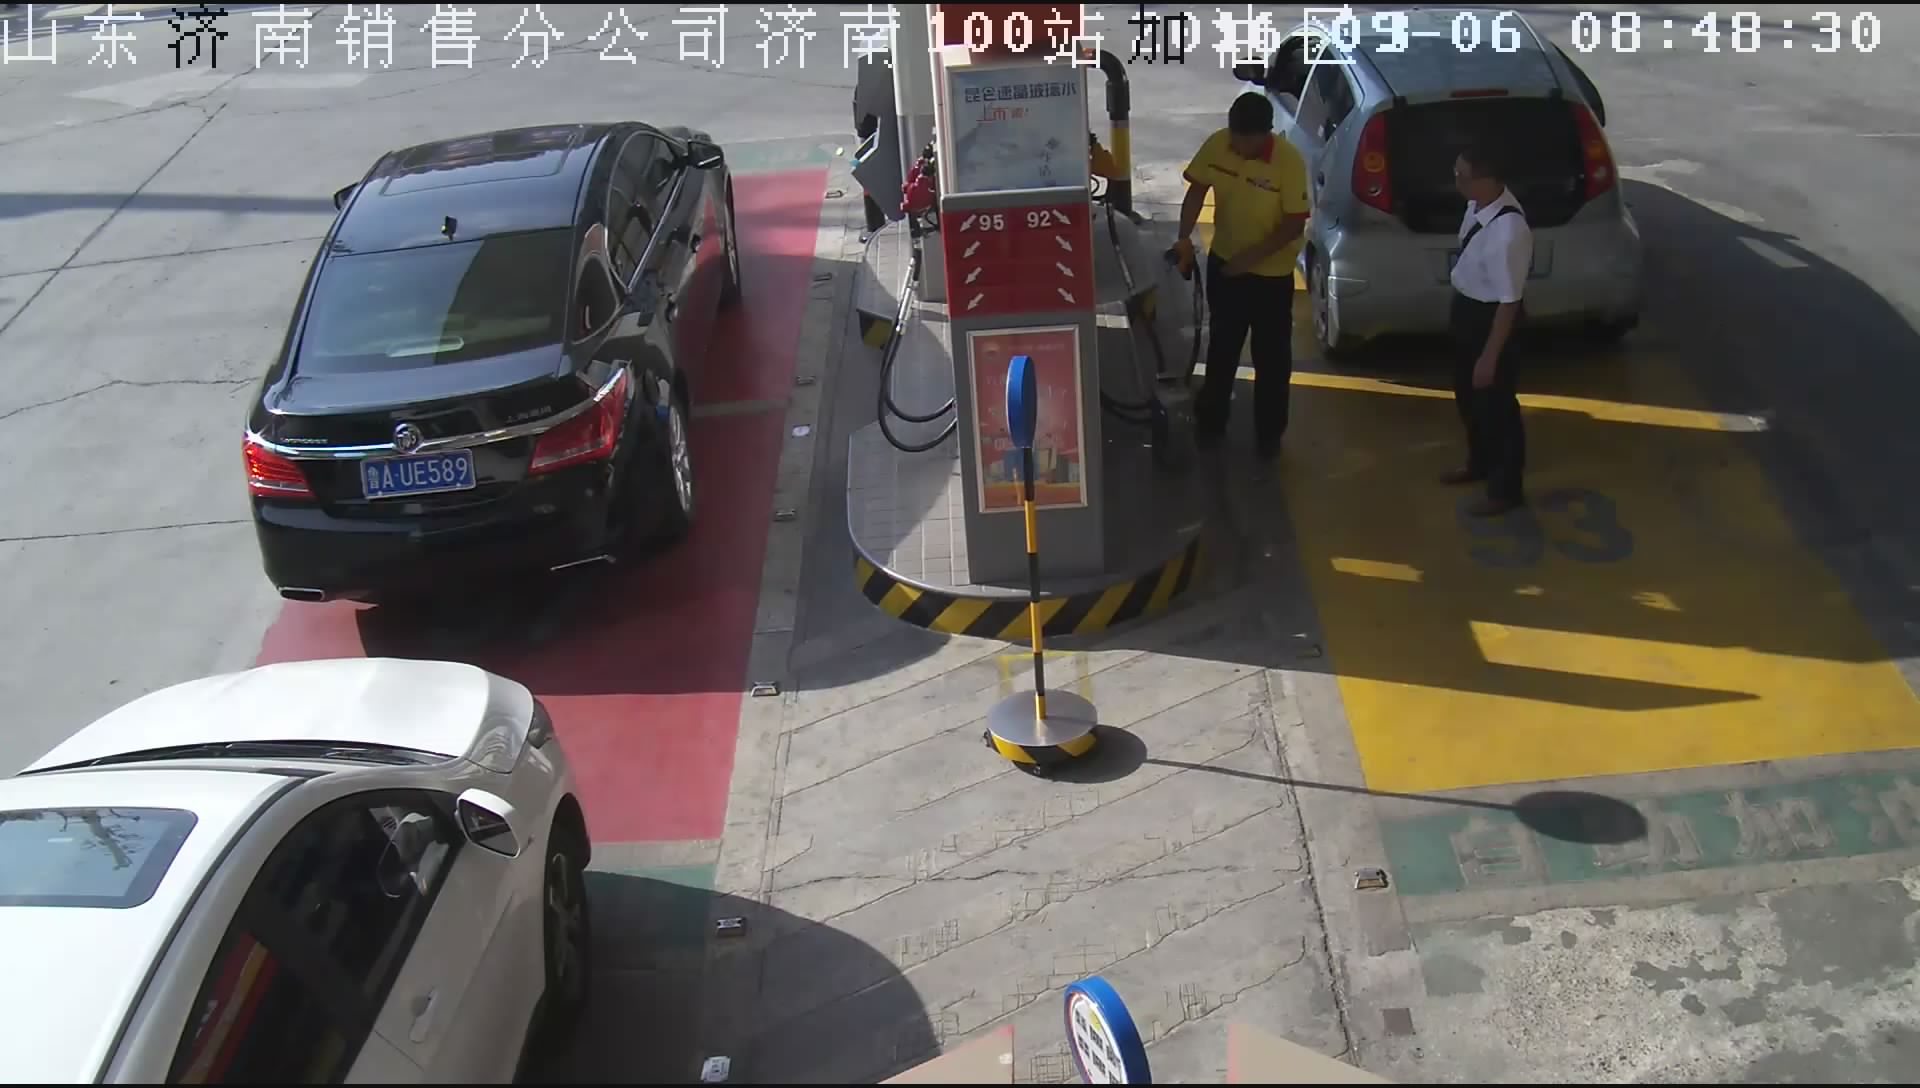blue: (357, 448, 477, 504)
